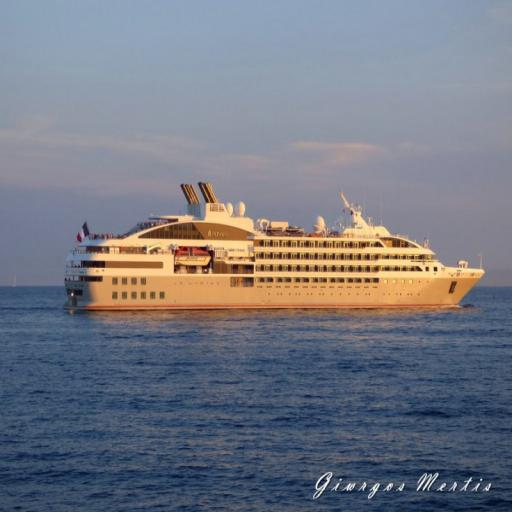cruises: (58, 180, 491, 318)
